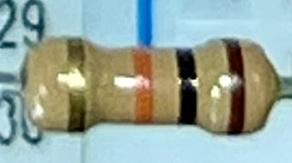Black: (173, 45, 199, 125)
Brown: (217, 36, 246, 135)
Orange: (131, 45, 155, 124)
Side-Gold: (68, 36, 86, 134)
